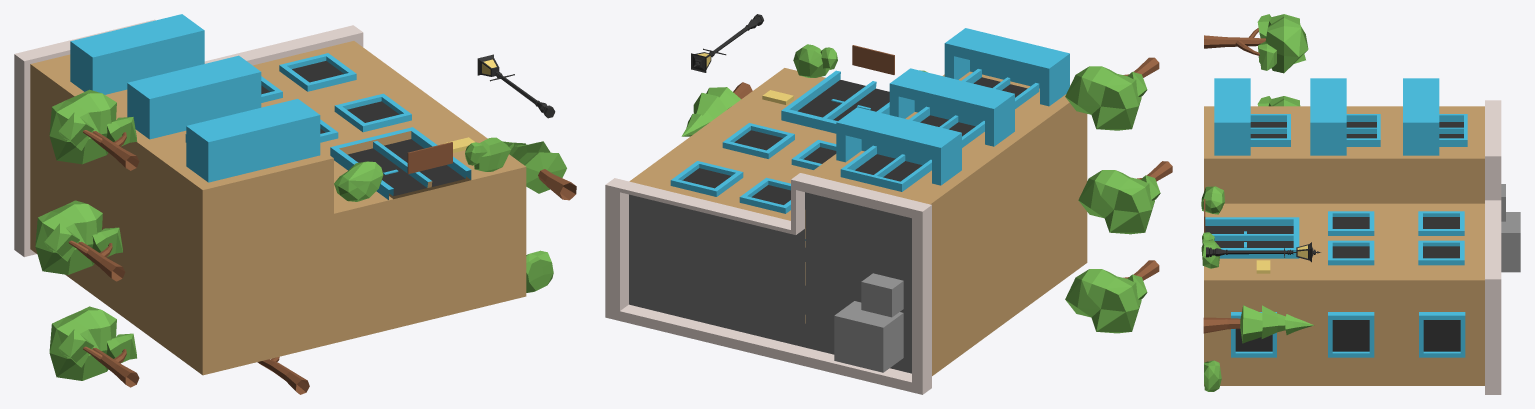
The model's file is SM_HouseBuilt.FBX.
3 renders of one model, left to right at view 1: azimuth 30°, elevation 25°; view 2: azimuth 150°, elevation 25°; view 3: azimuth 270°, elevation 25°, orthographic. The views are drawn at different scales.
Parts seen in each view (by area): view 1: Box002; view 2: Box002; view 3: Box002.
Part boxes in pixels (x1,y1,x2,y2): Box002: (14, 14, 576, 394); Box002: (605, 14, 1172, 394); Box002: (1201, 14, 1520, 394).
Size of the model in its own units: 514 by 344 by 311.
